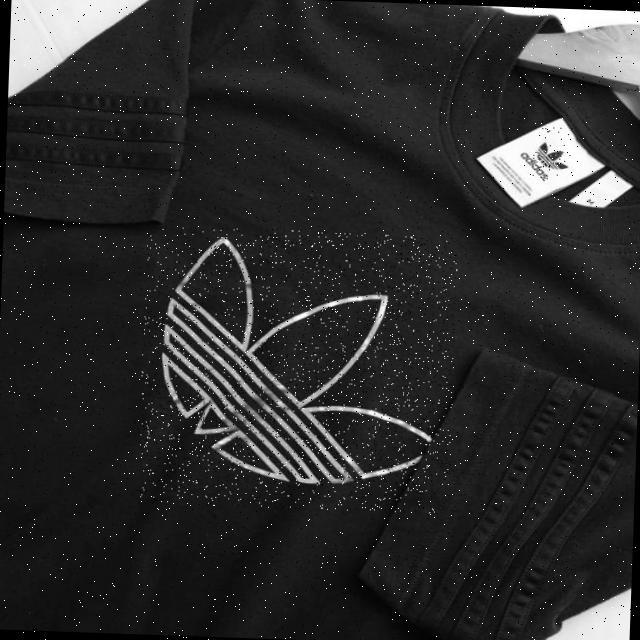Adidas: (137, 225, 459, 513), (531, 127, 574, 182)
